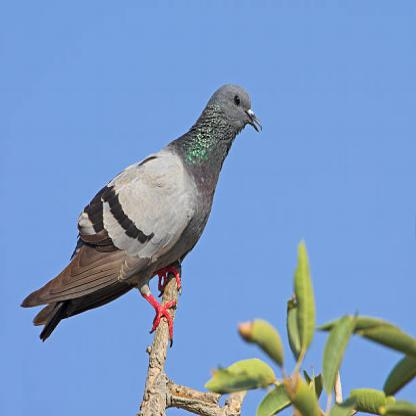Rock Pigeon: (11, 87, 264, 315)
